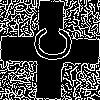C: (25, 25, 72, 63)
